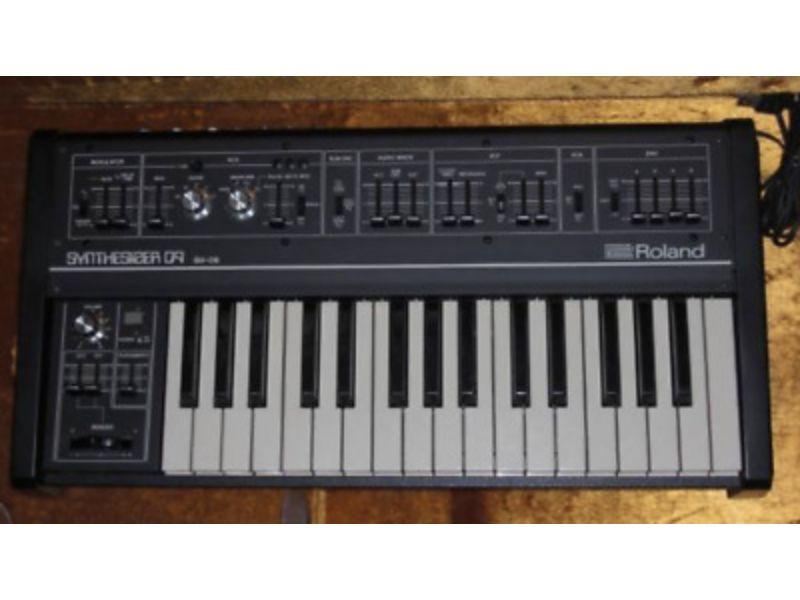synthesizer: (19, 123, 783, 502)
